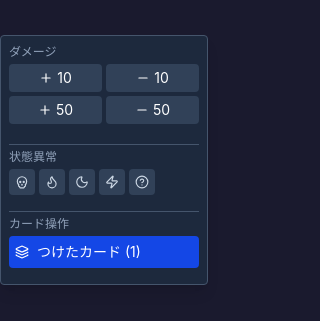
Test case: CardMenu › つけたカード操作 › 再度クリックすると一覧が折りたたまれる
Click the button "つけたカード (1)": (104, 252) left=9, top=236, right=199, bottom=268
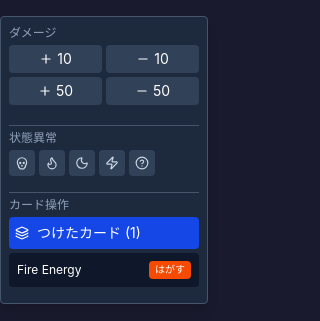
Now the text "Fire Energy" is shown, box left=17, top=262, right=81, bottom=278
Click the button "つけたカード (1)": (104, 233) left=9, top=217, right=199, bottom=249
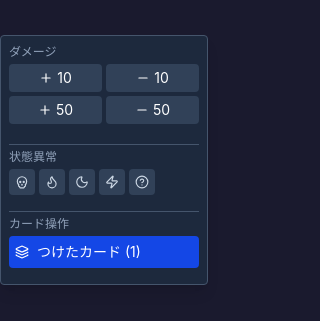
Now the text "Fire Energy" is gone
